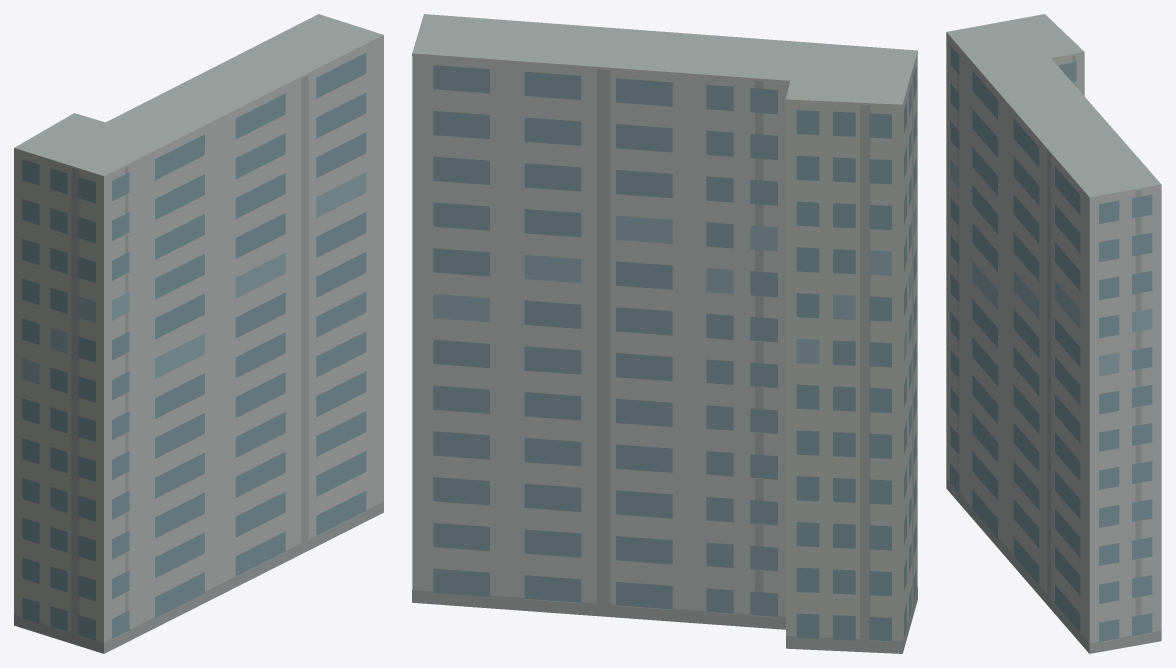
File: residential-e2086b2c-1fac-44e0-b529-9df2473e3bc4.glb
3 renders of one model, left to right at view 1: azimuth 30°, elevation 25°; view 2: azimuth 150°, elevation 25°; view 3: azimuth 270°, elevation 25°, orthographic. The views are drawn at different scales.
Parts seen in each view (by area): view 1: residential-e2086b2c-1fac-44e0-b529-9df2473e3bc4.tmp; view 2: residential-e2086b2c-1fac-44e0-b529-9df2473e3bc4.tmp; view 3: residential-e2086b2c-1fac-44e0-b529-9df2473e3bc4.tmp.
Part boxes in pixels (bbox=[...]): residential-e2086b2c-1fac-44e0-b529-9df2473e3bc4.tmp: bbox=[14, 14, 383, 653]; residential-e2086b2c-1fac-44e0-b529-9df2473e3bc4.tmp: bbox=[412, 14, 917, 653]; residential-e2086b2c-1fac-44e0-b529-9df2473e3bc4.tmp: bbox=[946, 14, 1161, 653].
Bounding box in the file's own units: 46.51 × 54 × 23.08.
